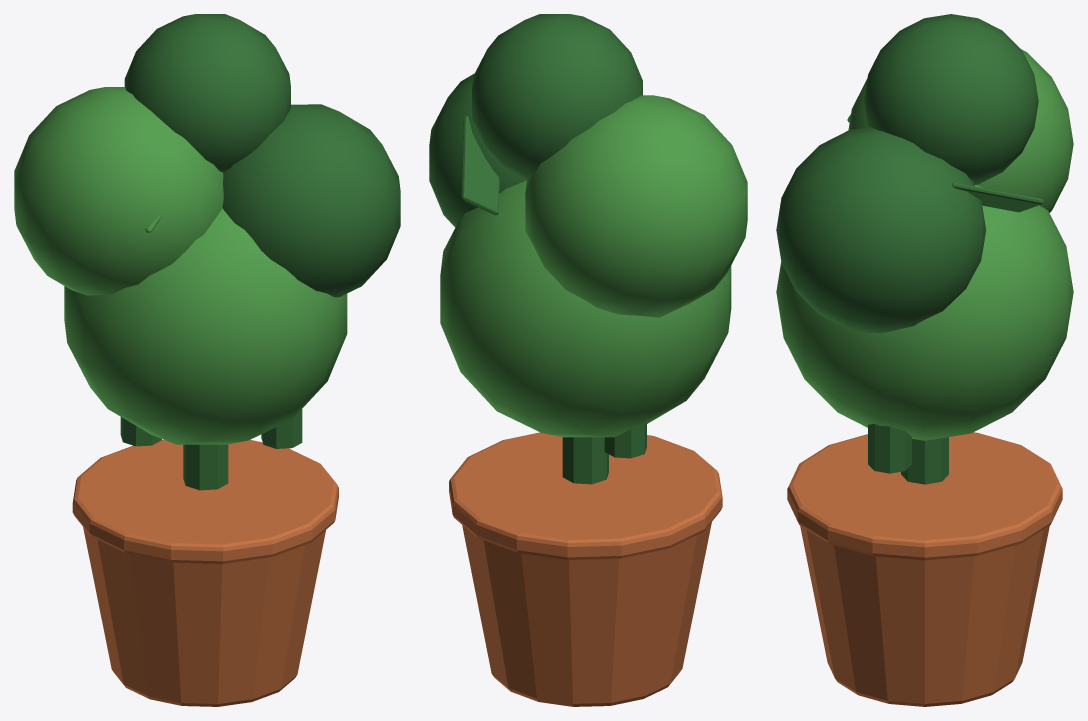
Rendered from plant.glb.
3 renders of one model, left to right at view 1: azimuth 30°, elevation 25°; view 2: azimuth 150°, elevation 25°; view 3: azimuth 270°, elevation 25°, orthographic. The views are drawn at different scales.
Parts seen in each view (by area): view 1: pot; view 2: pot; view 3: pot.
Boxes of the visible parts, x1,y1,x2,y2 form: pot: (14, 14, 400, 706); pot: (429, 14, 747, 706); pot: (776, 14, 1073, 706).
Size of the model in its own units: 0.8675 by 1.65 by 0.68.
